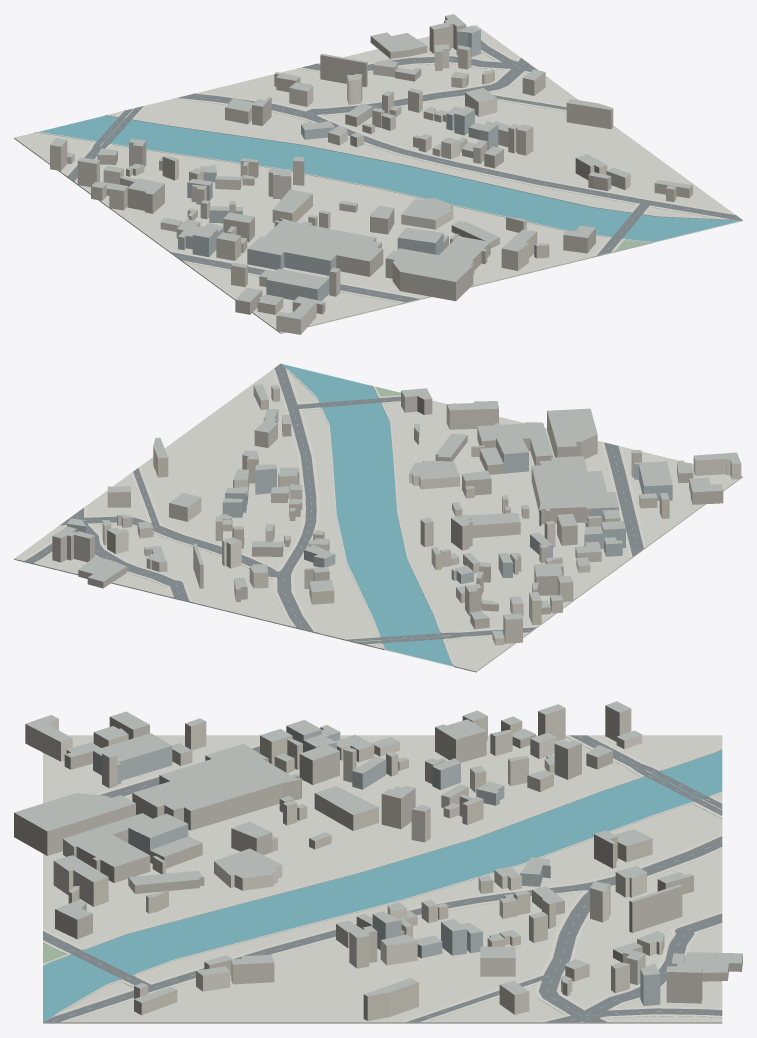
3 renders of one model, top to bottom at view 1: azimuth 30°, elevation 25°; view 2: azimuth 150°, elevation 25°; view 3: azimuth 270°, elevation 25°, orthographic. The views are drawn at different scales.
Visible parts, largest first — view 1: city; view 2: city; view 3: city.
Boxes of the visible parts, x1,y1,x2,y2 form: city: [14, 14, 742, 334]; city: [14, 363, 742, 672]; city: [14, 701, 742, 1023].
Size of the model in its own units: 514 by 26 by 537.
